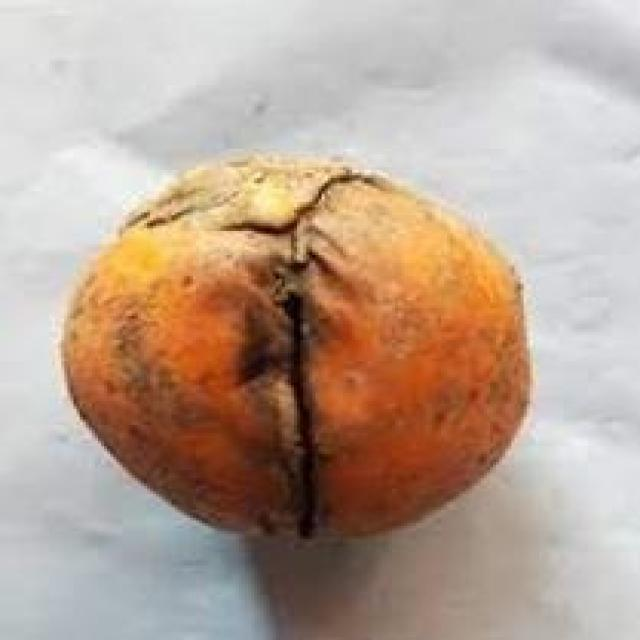damaged: (55, 151, 533, 550)
